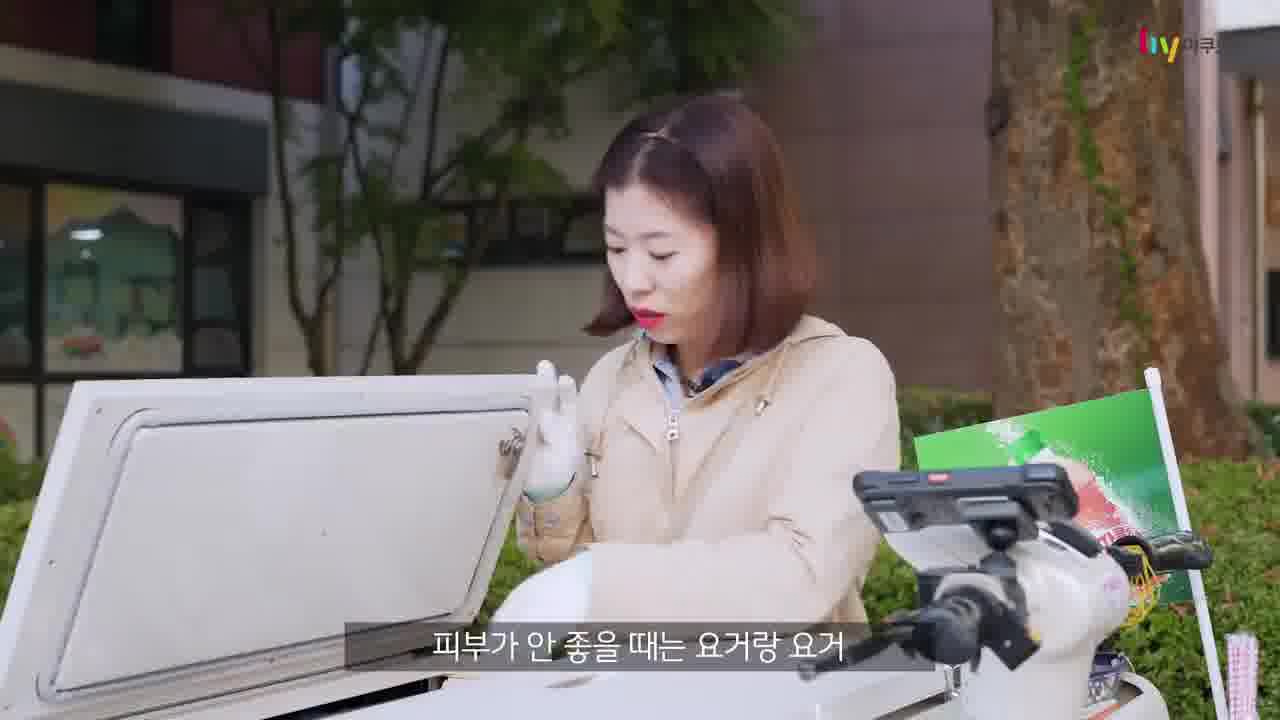Yakurut: (481, 80, 920, 639)
